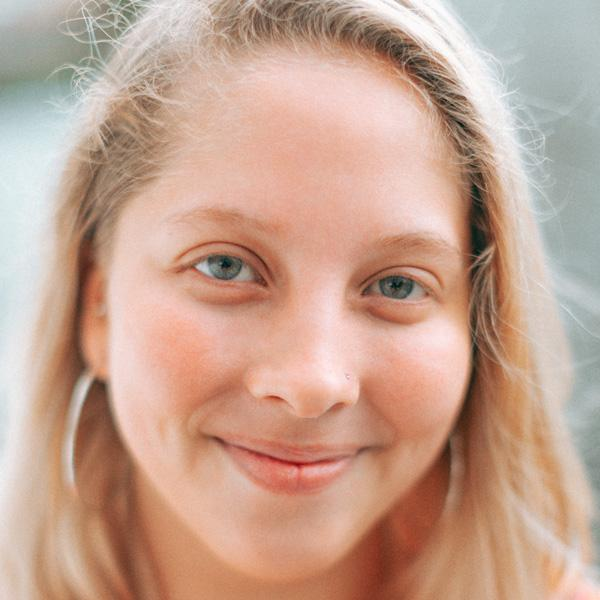Eyes: (165, 229, 274, 302), (352, 256, 456, 321)
